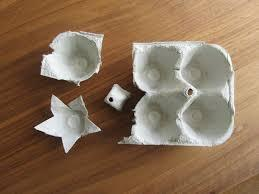Papier mache: (13, 31, 256, 173)
